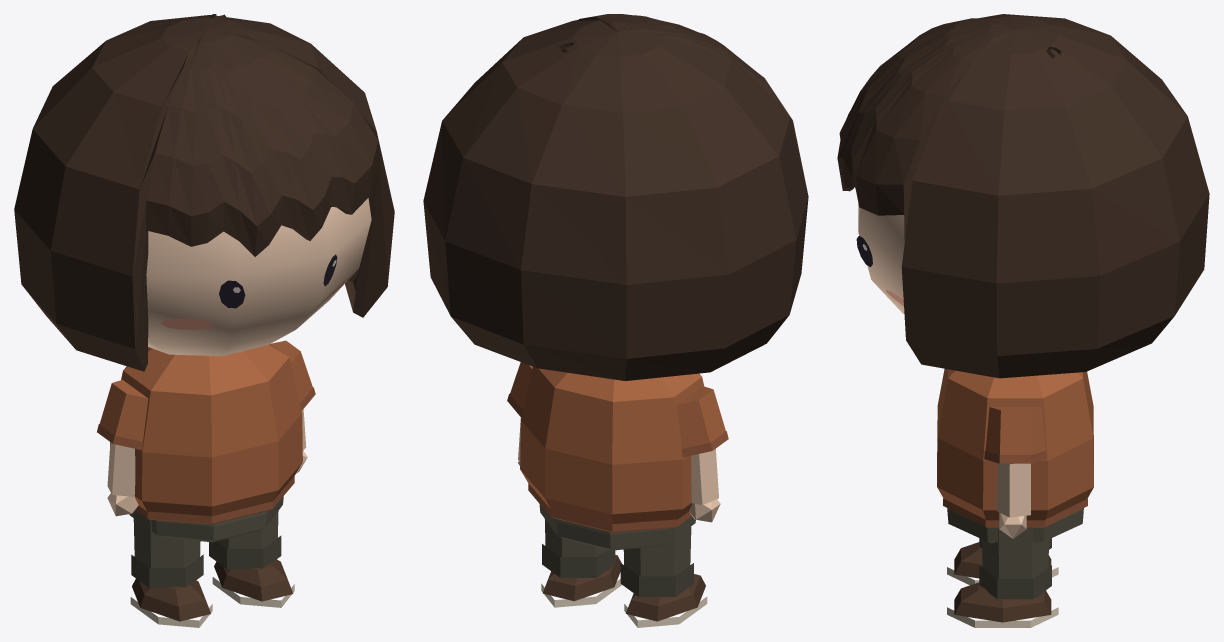
File: minimi.glb
3 views of the same model, side by side, from view 1: azimuth 30°, elevation 25°; view 2: azimuth 150°, elevation 25°; view 3: azimuth 270°, elevation 25° (orthographic).
Visible parts, largest first — view 1: hair, shirt, skin, trousers (×3), shoe (×2), trouser_cuff (×2), shirt_band, sole (×2), eye, blush; view 2: hair, shirt, trousers (×3), shoe (×2), trouser_cuff (×2), shirt_band, skin, sole (×2); view 3: hair, shirt, skin, trousers (×2), shoe (×2), trouser_cuff, shirt_band, sole.
Boxes of the visible parts, left/top/right/bottom form: hair: left=14, top=15, right=394, bottom=371; shirt: left=99, top=340, right=312, bottom=516; skin: left=107, top=198, right=371, bottom=516; trousers (×3): left=129, top=496, right=283, bottom=567; shoe (×2): left=132, top=559, right=293, bottom=621; trouser_cuff (×2): left=131, top=535, right=281, bottom=588; shirt_band: left=97, top=387, right=315, bottom=524; sole (×2): left=130, top=577, right=294, bottom=627; eye: left=219, top=254, right=337, bottom=308; blush: left=161, top=275, right=351, bottom=329; hair: left=423, top=14, right=808, bottom=380; shirt: left=510, top=362, right=725, bottom=524; trousers (×3): left=539, top=504, right=695, bottom=576; shoe (×2): left=542, top=555, right=705, bottom=621; trouser_cuff (×2): left=542, top=544, right=693, bottom=596; shirt_band: left=507, top=394, right=728, bottom=532; skin: left=518, top=418, right=720, bottom=522; sole (×2): left=541, top=579, right=707, bottom=627; hair: left=837, top=14, right=1209, bottom=378; shirt: left=937, top=368, right=1093, bottom=520; skin: left=858, top=203, right=1030, bottom=538; trousers (×2): left=947, top=508, right=1083, bottom=578; shoe (×2): left=954, top=542, right=1051, bottom=622; trouser_cuff: left=979, top=565, right=1051, bottom=599; shirt_band: left=943, top=451, right=1087, bottom=527; sole: left=947, top=607, right=1058, bottom=627.
Bounding box in the file's own units: 0.6064 × 0.982 × 0.5859.
